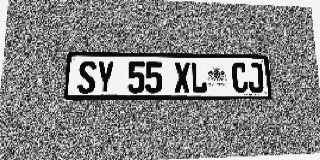5: (128, 61, 145, 93), (146, 62, 162, 93)
C: (232, 63, 248, 93)
J: (247, 63, 264, 93)
L: (190, 62, 207, 93)
S: (77, 61, 96, 94)
X: (174, 62, 191, 93)
Y: (96, 61, 114, 94)
